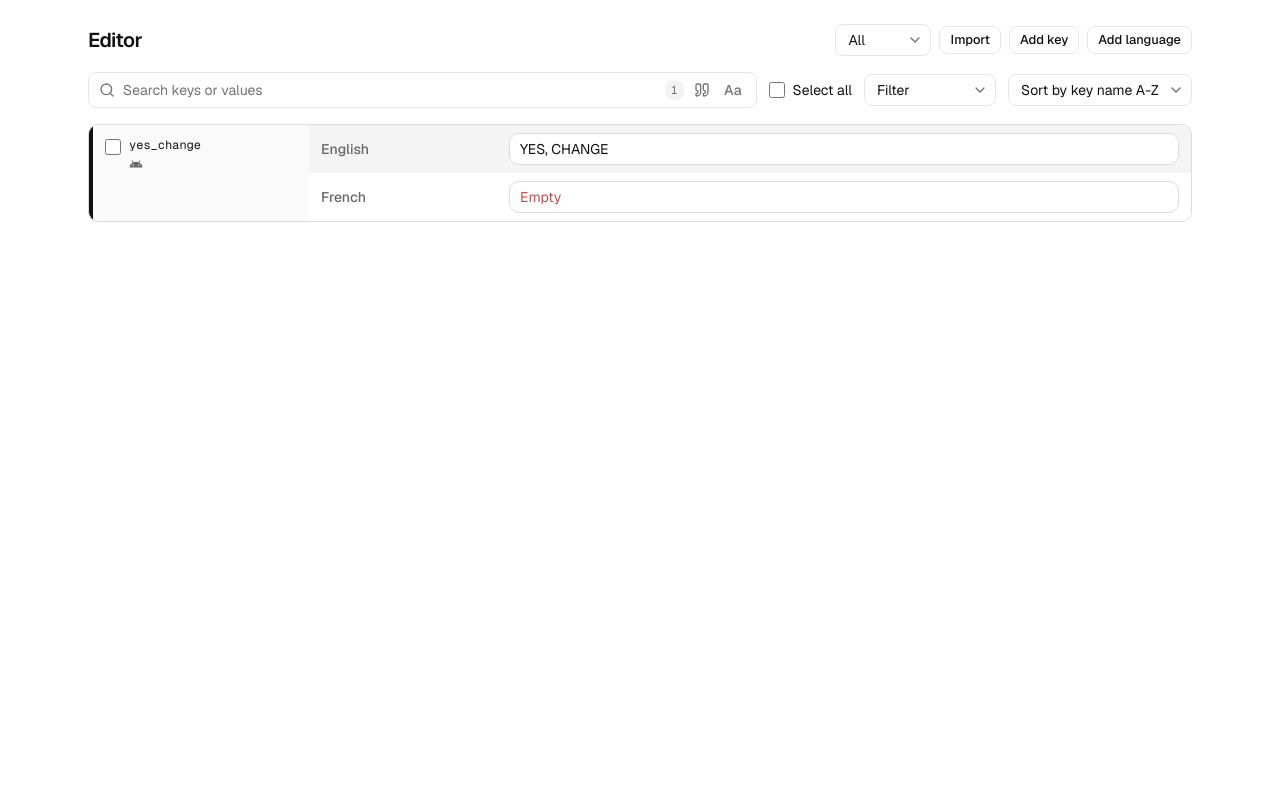
Scenario: editor screen › opens supported languages on AI translated and searches the catalog
Click the button "Add language": [1140, 40] box [1087,26,1192,54]
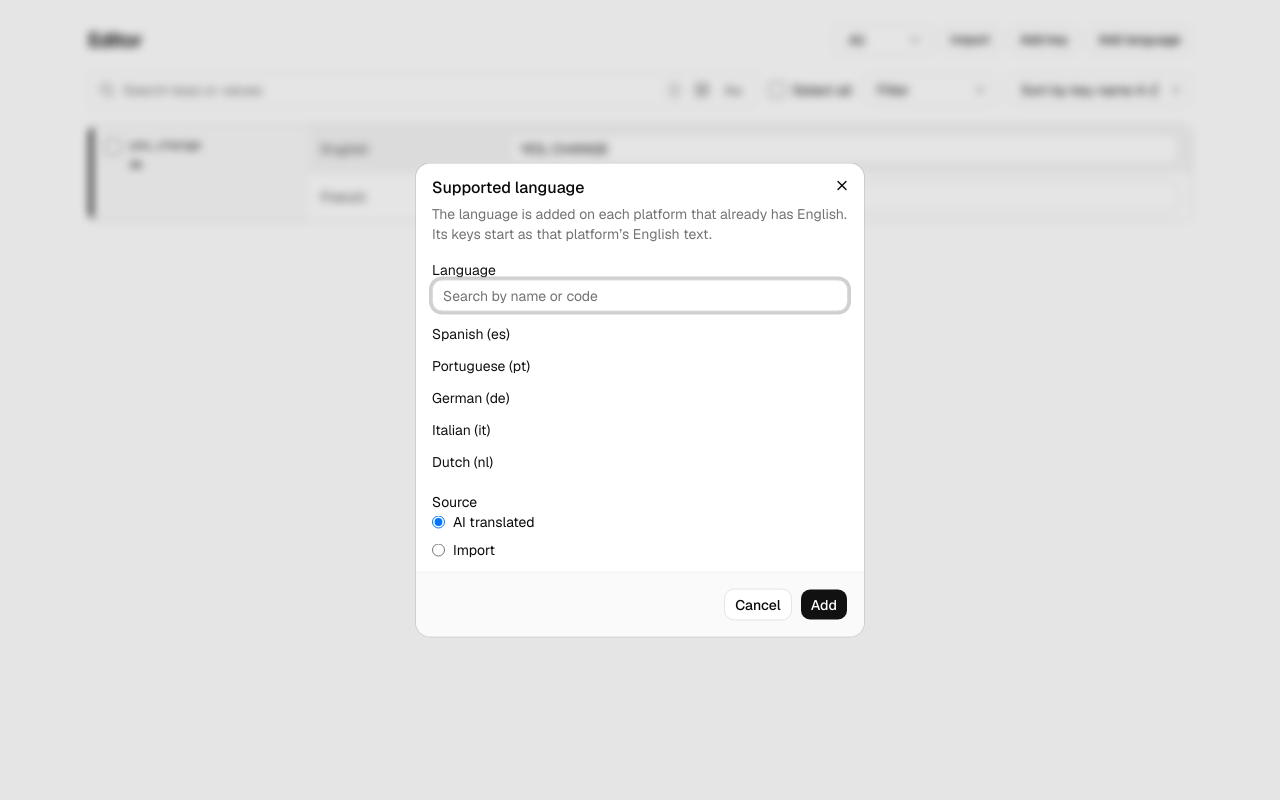
Now the heading "Supported language" is shown, box [432,176,584,198]
Now the radio button labelled "AI translated" is checked, box [432,515,445,528]
Now the option "Spanish (es)" is shown, box [422,320,858,348]
In the field named "Search languages": [640, 296] box [432,280,848,312], type "viet"
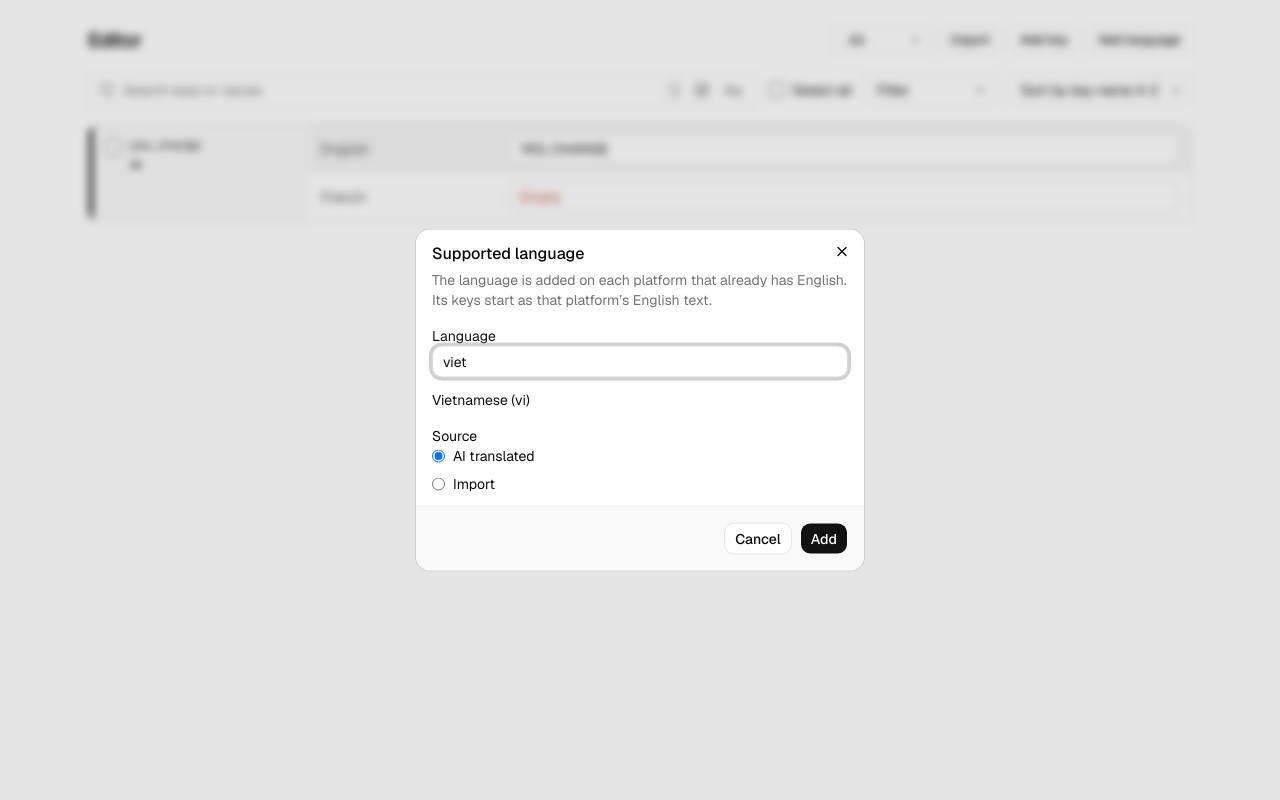
Now the option "Vietnamese (vi)" is shown, box [422,386,858,414]
Clear the field named "Search languages": [640, 362] box [432,346,848,378]
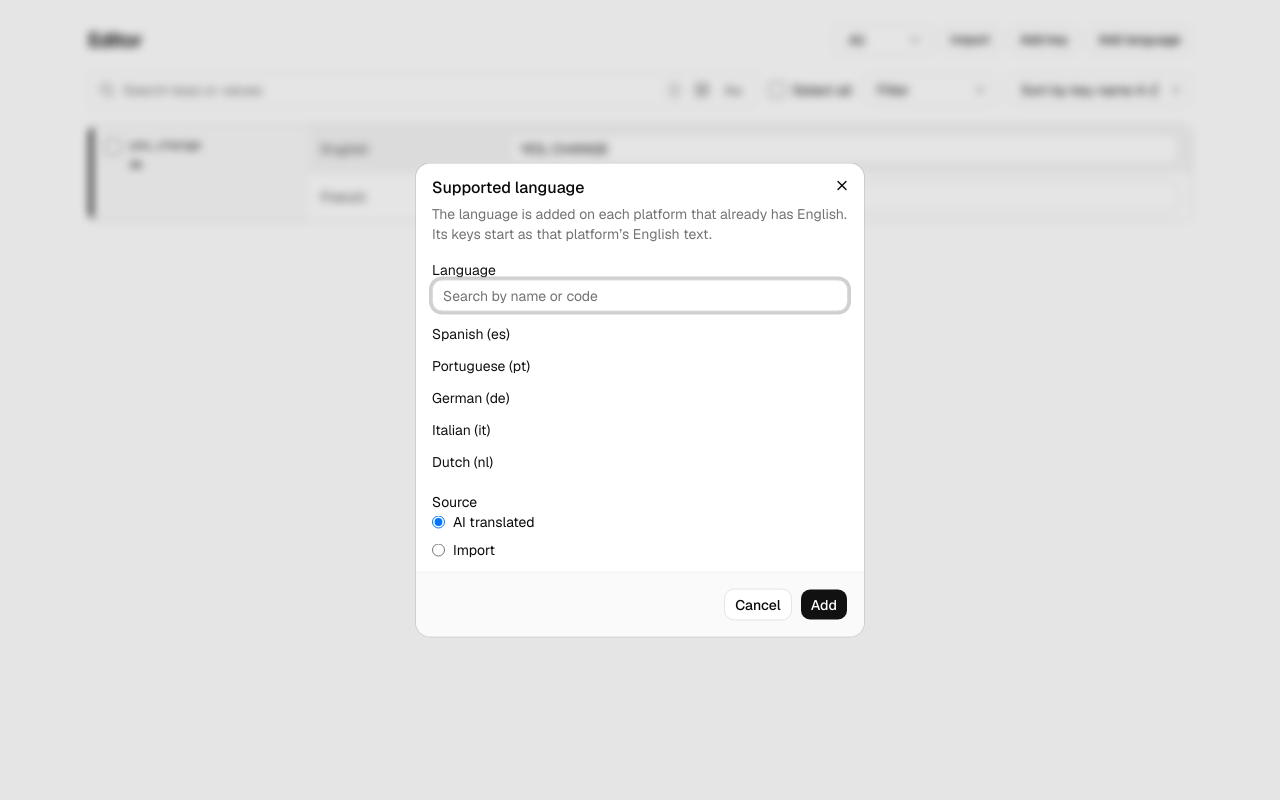
In the field named "Search languages": [640, 296] box [432,280,848,312], type "finn"
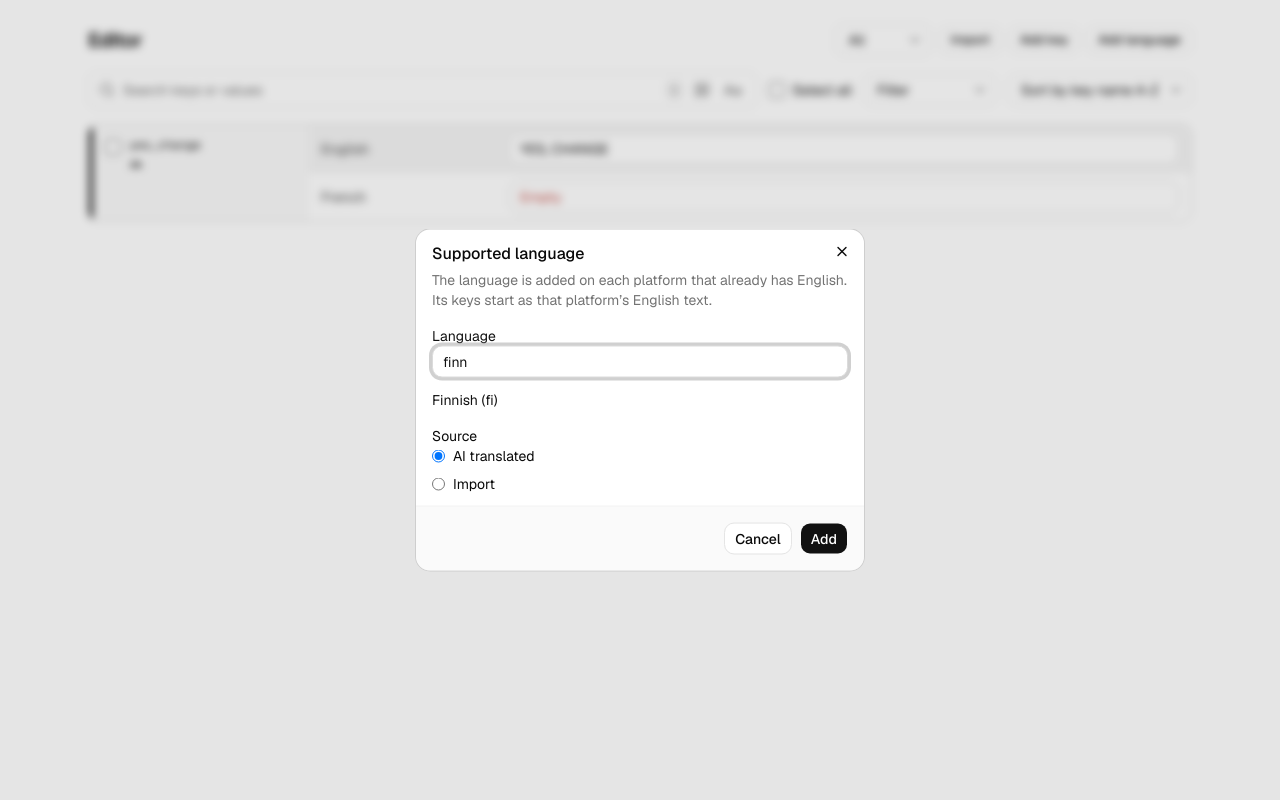
Now the option "Finnish (fi)" is shown, box [422,386,858,414]
Now the option "Spanish (es)" is gone
